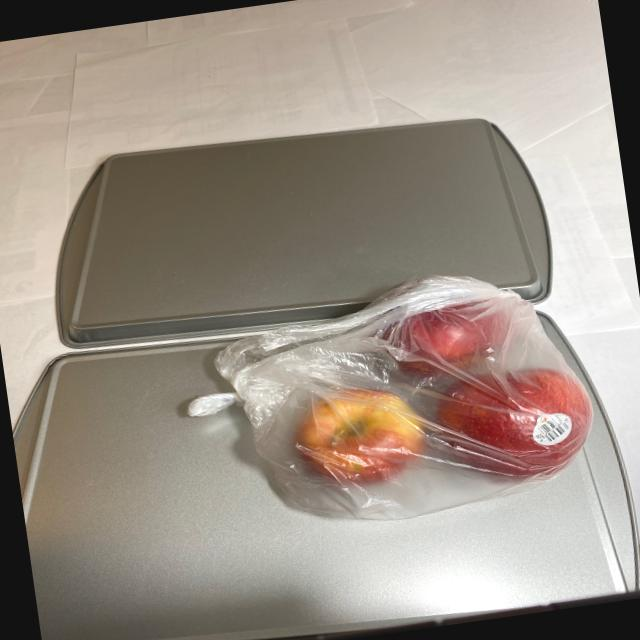apple: (268, 276, 612, 510)
